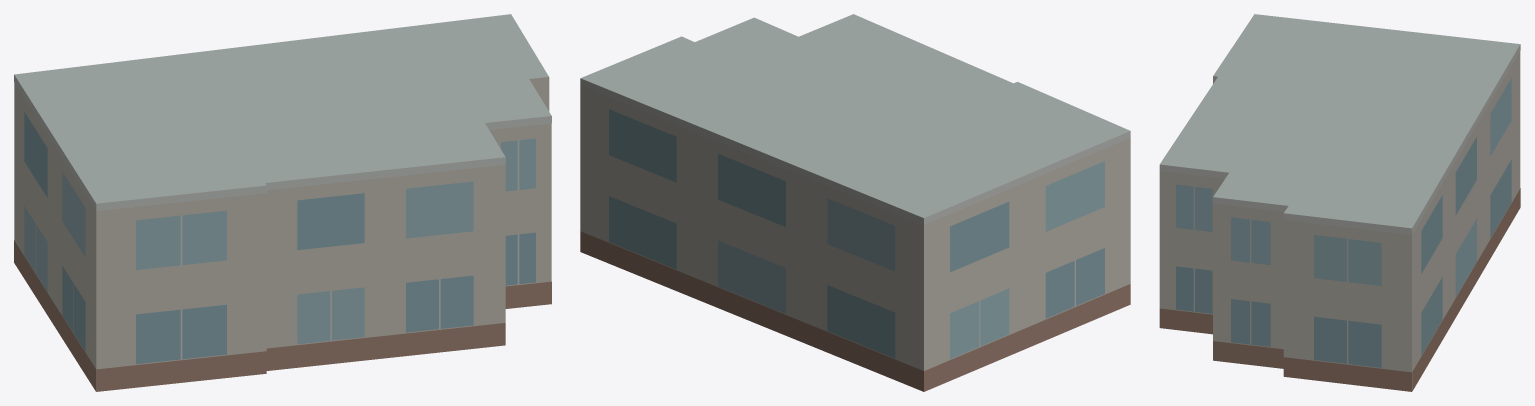
Rendered from survey-upis-32839726.glb.
3 views of the same model, side by side, from view 1: azimuth 30°, elevation 25°; view 2: azimuth 150°, elevation 25°; view 3: azimuth 270°, elevation 25° (orthographic). The views are drawn at different scales.
Parts seen in each view (by area): view 1: survey-upis-32839726.tmp; view 2: survey-upis-32839726.tmp; view 3: survey-upis-32839726.tmp.
Boxes of the visible parts, x1=… form: survey-upis-32839726.tmp: x1=14, y1=14, x2=551, y2=391; survey-upis-32839726.tmp: x1=580, y1=14, x2=1130, y2=391; survey-upis-32839726.tmp: x1=1159, y1=14, x2=1520, y2=391.
Size of the model in its own units: 17.16 by 6.1 by 12.21.
